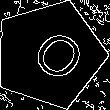O_SW: (15, 22, 84, 88)
